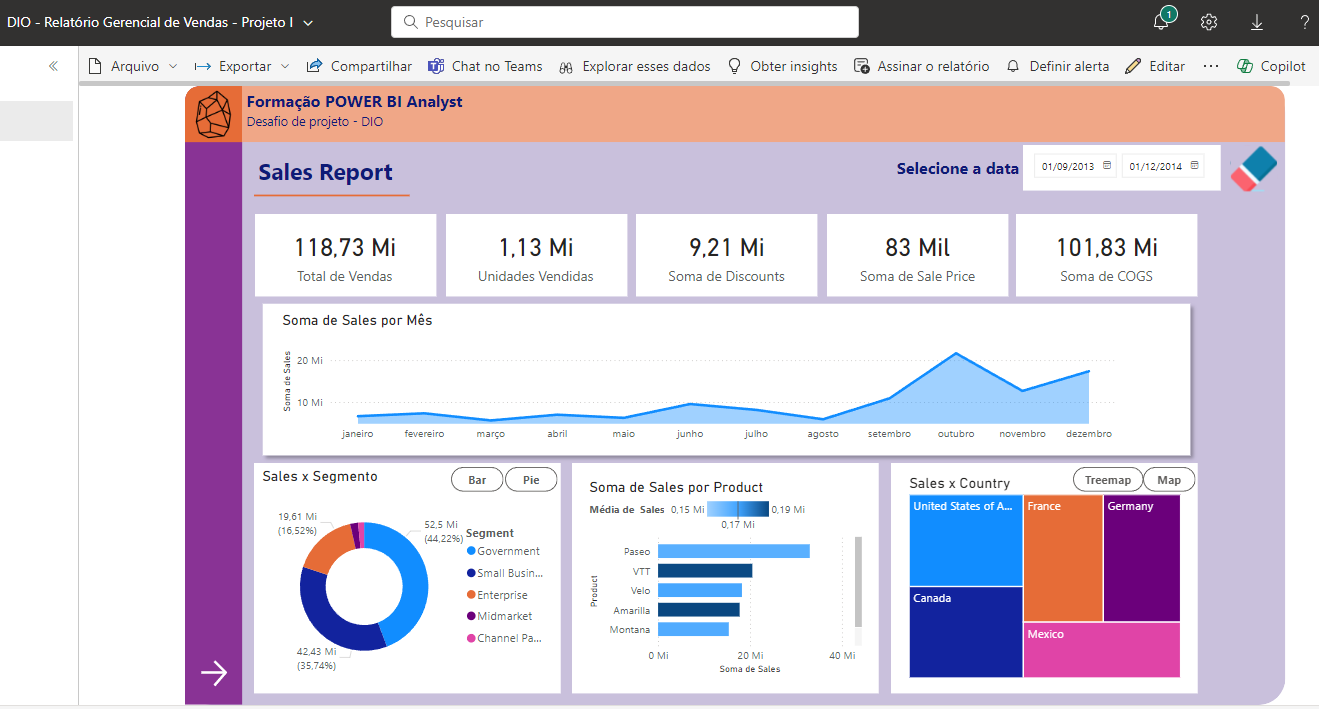

The page's visual inventory and layout, read from the dashboard file:
{"tool":"powerbi","page":{"name":"Página 1","canvas":[1280,720],"ordinal":0},"visuals":[{"type":"shape","box":[0,0,1280,720.1],"z":0},{"type":"shape","box":[80.7,105.4,181,43],"z":0,"group":"g7"},{"type":"group","id":"g1","title":"Cards back","box":[81.2,148.8,1096.8,95.9],"z":0,"group":"g3"},{"type":"shape","box":[81.2,148.8,211.2,95.9],"z":0,"group":"g1"},{"type":"card","fields":{"Values":["Sum(financials. Sales)"]},"box":[89.5,154,191.9,85.5],"z":0,"group":"g2"},{"type":"clusteredBarChart","title":"Sales x Segment","fields":{"Y":["Sum(financials. Sales)"],"Category":["financials.Segment"]},"box":[87.2,442.7,342.5,260.4],"z":0,"group":"g6"},{"type":"map","title":"Sales x Country","fields":{"Category":["financials.Country"],"Size":["Sum(financials. Sales)"]},"box":[837.3,451.8,325.5,242.2],"z":0,"group":"g5"},{"type":"shape","box":[0,0,66.8,719.7],"z":1000},{"type":"slicer","fields":{"Values":["financials.Date"]},"box":[975.3,69,230.5,53.4],"z":1000,"group":"g4"},{"type":"textbox","box":[80.7,75.5,181,52.1],"z":1000,"group":"g7"},{"type":"shape","box":[303.3,148.8,211.2,95.9],"z":1000,"group":"g1"},{"type":"group","id":"g2","title":"Cards info","box":[89.5,154,1078.2,85.5],"z":1000,"group":"g3"},{"type":"card","fields":{"Values":["Sum(financials.Units Sold)"]},"box":[311.8,154,191.9,85.5],"z":1000,"group":"g2"},{"type":"donutChart","title":"Sales x Segmento","fields":{"Y":["Sum(financials. Sales)"],"Category":["financials.Segment"]},"box":[84.6,442.7,349,259.1],"z":1000,"group":"g6"},{"type":"treemap","title":"Sales x Country","fields":{"Group":["financials.Country"],"Values":["Sum(financials. Sales)"]},"box":[837.3,451.8,325.5,242.2],"z":1000,"group":"g5"},{"type":"shape","box":[0,0,66.8,65.5],"z":2000},{"type":"textbox","box":[807.3,78.1,168,36.5],"z":2000,"group":"g4"},{"type":"shape","box":[524,148.8,211.2,95.9],"z":2000,"group":"g1"},{"type":"card","fields":{"Values":["Sum(financials.Discounts)"]},"box":[534,154,191.9,85.5],"z":2000,"group":"g2"},{"type":"image","box":[0,0,66.8,65.5],"z":3000},{"type":"shape","box":[746.1,148.8,211.2,95.9],"z":3000,"group":"g1"},{"type":"card","fields":{"Values":["Sum(financials.Sale Price)"]},"box":[756.3,154,191.9,85.5],"z":3000,"group":"g2"},{"type":"shape","box":[66.8,0,1213.2,65.5],"z":4000},{"type":"actionButton","box":[1205.8,65.1,74.2,62.5],"z":4000,"group":"g4"},{"type":"shape","box":[966.8,148.8,211.2,95.9],"z":4000,"group":"g1"},{"type":"card","fields":{"Values":["Sum(financials.COGS)"]},"box":[975.8,154,191.9,85.5],"z":4000,"group":"g2"},{"type":"textbox","box":[66.8,0,304.6,65.5],"z":5000},{"type":"group","id":"g3","title":"Cards","box":[81.2,148.8,1096.8,95.9],"z":6000},{"type":"shape","box":[81.2,244.7,1096.8,194.3],"z":7000},{"type":"shape","box":[80.7,438.8,356.8,268.2],"z":8000},{"type":"areaChart","fields":{"Category":["financials.Date.Variation.Hierarquia de datas.Mês"],"Y":["Sum(financials. Sales)"]},"box":[108.1,261.7,979.2,160.2],"z":9000},{"type":"shape","box":[450.5,438.8,356.8,268.2],"z":10000},{"type":"shape","box":[821.6,438.8,356.8,268.2],"z":11000},{"type":"clusteredBarChart","fields":{"Y":["Sum(financials. Sales)"],"Category":["financials.Product"]},"box":[464.9,455.7,326.8,233.1],"z":12000},{"type":"group","id":"g4","title":"Filtro por data","box":[807.3,65.1,472.7,62.5],"z":13000},{"type":"group","id":"g5","title":"Sales x Country","box":[837.3,451.8,325.5,242.2],"z":14000},{"type":"group","id":"g6","title":"Sales x Segment","box":[84.6,442.7,349,260.4],"z":15000},{"type":"group","id":"g7","title":"Report title","box":[80.7,75.5,181,72.9],"z":16000},{"type":"actionButton","box":[0,662.8,66.4,40.4],"z":17000},{"type":"actionButton","title":"Pie","box":[372.4,442.7,61.2,28.6],"z":18000},{"type":"actionButton","title":"Bar","box":[309.9,442.7,61.2,28.6],"z":19000},{"type":"actionButton","title":"Map","box":[1114.6,442.7,61.2,28.6],"z":20000},{"type":"actionButton","title":"Treemap","box":[1032.6,442.7,82,28.6],"z":21000}]}

Visuals, with their boxes on the page's 1280x720 design canvas (x1, y1, x2, y2). These are canvas units, not pixel positions in the 1319x709 screenshot, which may show the page scaled, cropped or inside an application window:
shape: bbox=[0, 0, 1280, 720]
shape: bbox=[81, 105, 262, 148]
"Cards back" group: bbox=[81, 149, 1178, 245]
shape: bbox=[81, 149, 292, 245]
card - Sum(financials. Sales): bbox=[90, 154, 281, 240]
"Sales x Segment" clusteredBarChart: bbox=[87, 443, 430, 703]
"Sales x Country" map: bbox=[837, 452, 1163, 694]
shape: bbox=[0, 0, 67, 720]
slicer - financials.Date: bbox=[975, 69, 1206, 122]
textbox: bbox=[81, 76, 262, 128]
shape: bbox=[303, 149, 514, 245]
"Cards info" group: bbox=[90, 154, 1168, 240]
card - Sum(financials.Units Sold): bbox=[312, 154, 504, 240]
"Sales x Segmento" donutChart: bbox=[85, 443, 434, 702]
"Sales x Country" treemap: bbox=[837, 452, 1163, 694]
shape: bbox=[0, 0, 67, 66]
textbox: bbox=[807, 78, 975, 115]
shape: bbox=[524, 149, 735, 245]
card - Sum(financials.Discounts): bbox=[534, 154, 726, 240]
image: bbox=[0, 0, 67, 66]
shape: bbox=[746, 149, 957, 245]
card - Sum(financials.Sale Price): bbox=[756, 154, 948, 240]
shape: bbox=[67, 0, 1280, 66]
actionButton: bbox=[1206, 65, 1280, 128]
shape: bbox=[967, 149, 1178, 245]
card - Sum(financials.COGS): bbox=[976, 154, 1168, 240]
textbox: bbox=[67, 0, 371, 66]
"Cards" group: bbox=[81, 149, 1178, 245]
shape: bbox=[81, 245, 1178, 439]
shape: bbox=[81, 439, 438, 707]
areaChart - financials.Date.Variation.Hierarquia de datas.Mês x Sum(financials. Sales): bbox=[108, 262, 1087, 422]
shape: bbox=[450, 439, 807, 707]
shape: bbox=[822, 439, 1178, 707]
clusteredBarChart - Sum(financials. Sales) x financials.Product: bbox=[465, 456, 792, 689]
"Filtro por data" group: bbox=[807, 65, 1280, 128]
"Sales x Country" group: bbox=[837, 452, 1163, 694]
"Sales x Segment" group: bbox=[85, 443, 434, 703]
"Report title" group: bbox=[81, 76, 262, 148]
actionButton: bbox=[0, 663, 66, 703]
"Pie" actionButton: bbox=[372, 443, 434, 471]
"Bar" actionButton: bbox=[310, 443, 371, 471]
"Map" actionButton: bbox=[1115, 443, 1176, 471]
"Treemap" actionButton: bbox=[1033, 443, 1115, 471]
